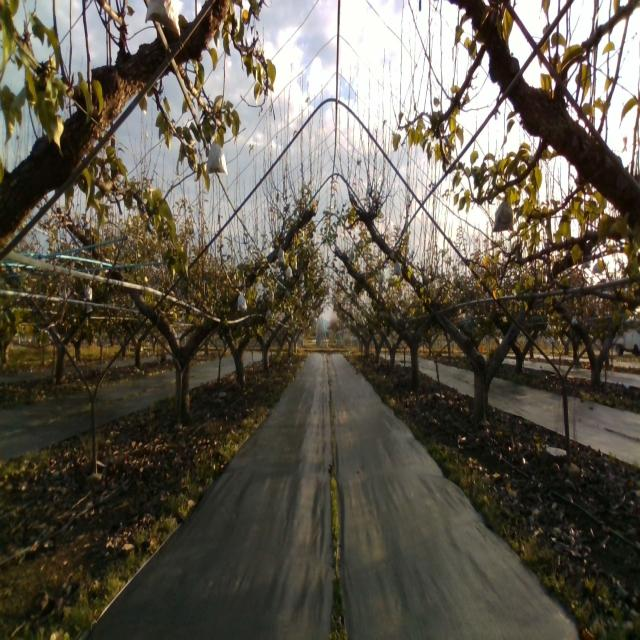pearbags: (144, 0, 181, 40), (491, 192, 515, 233), (204, 138, 226, 176), (237, 289, 247, 314), (393, 258, 403, 279)
